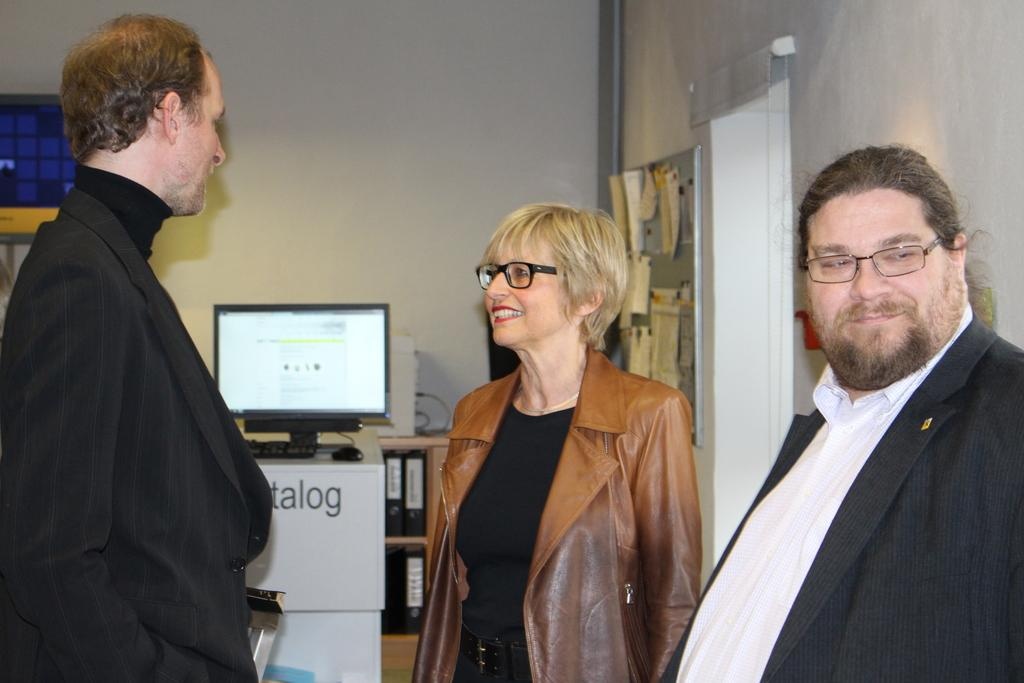Sem Máscara: (802, 187, 955, 380), (478, 231, 573, 343), (174, 56, 230, 215)
